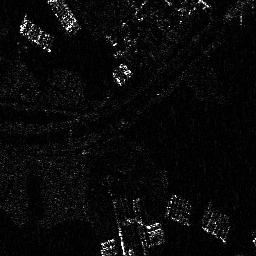ship: (20, 16, 54, 53)
